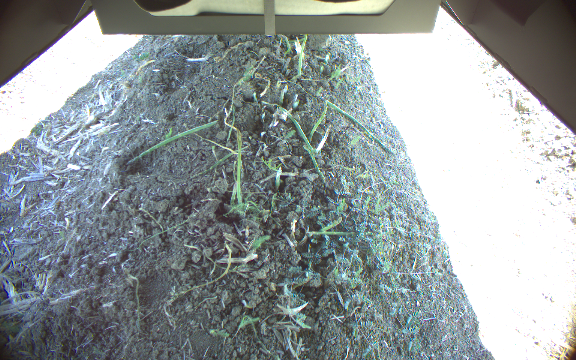aspa: (304, 100, 329, 142), (233, 128, 245, 207), (295, 34, 308, 78)
